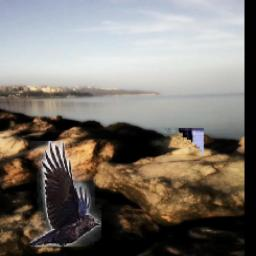Crow: (30, 141, 101, 247), (160, 128, 203, 256)
